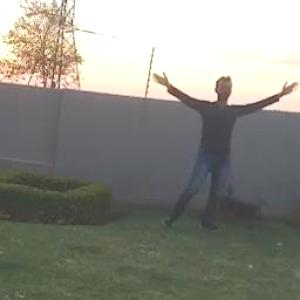takeoff: (151, 76, 284, 223)
